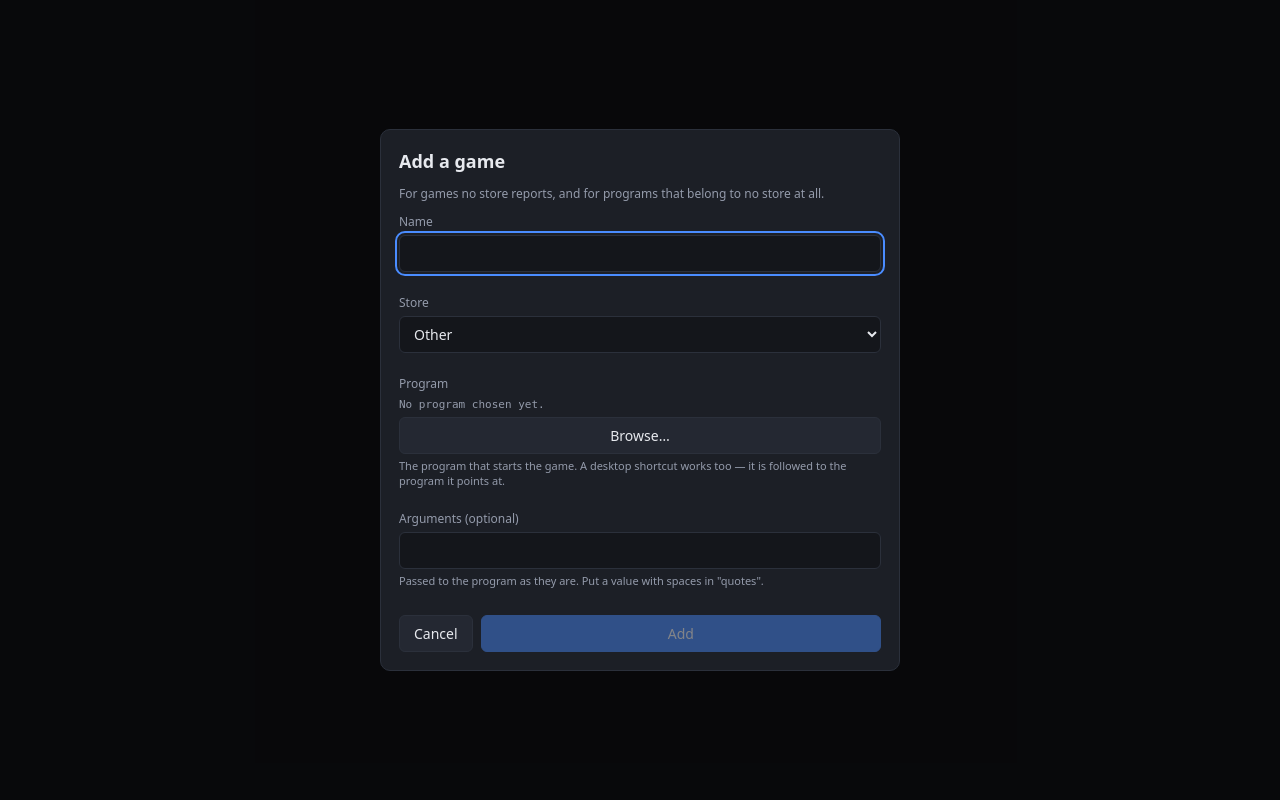
Test: a storeless game › leaves a name the user typed alone
Type "My Modpack" into the field labelled "Name". click: (640,254)
box: [399,235,881,272]
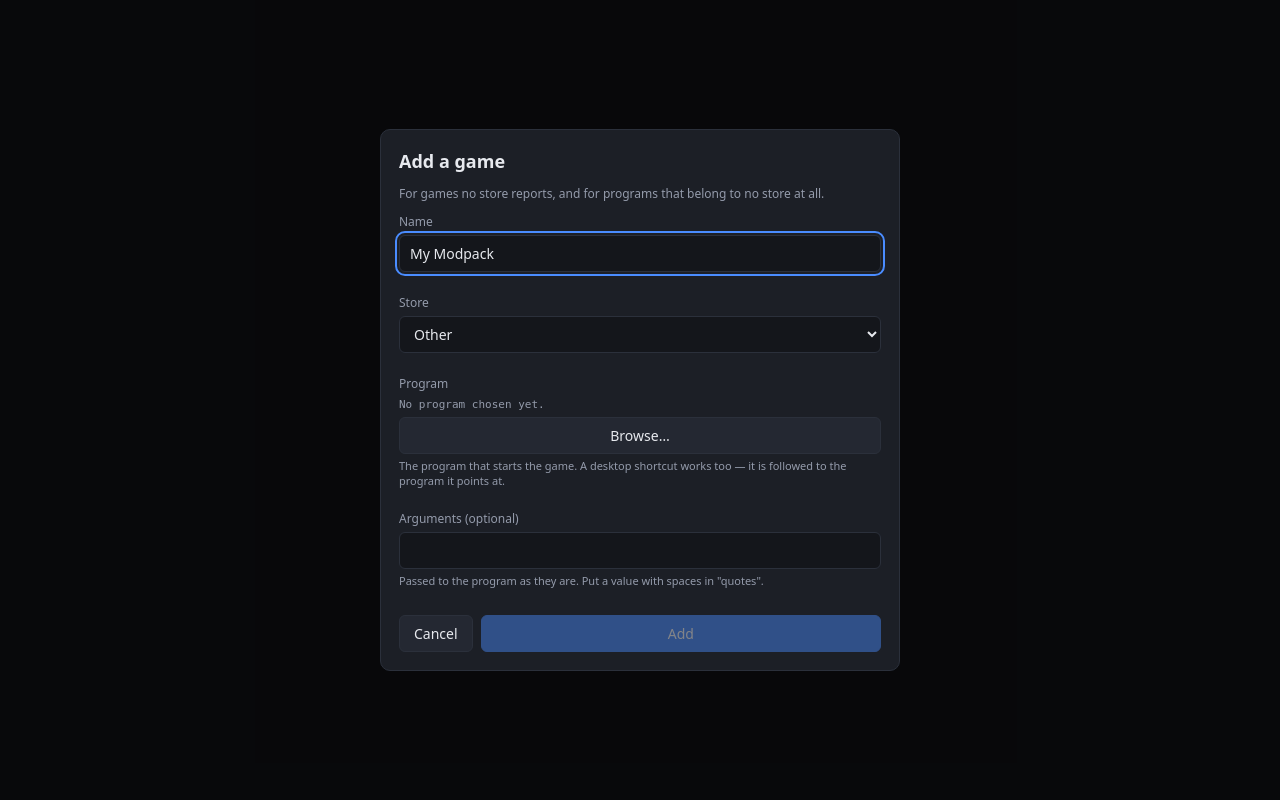
Click the button "Browse…". click: (640,435)
box: [399,417,881,454]
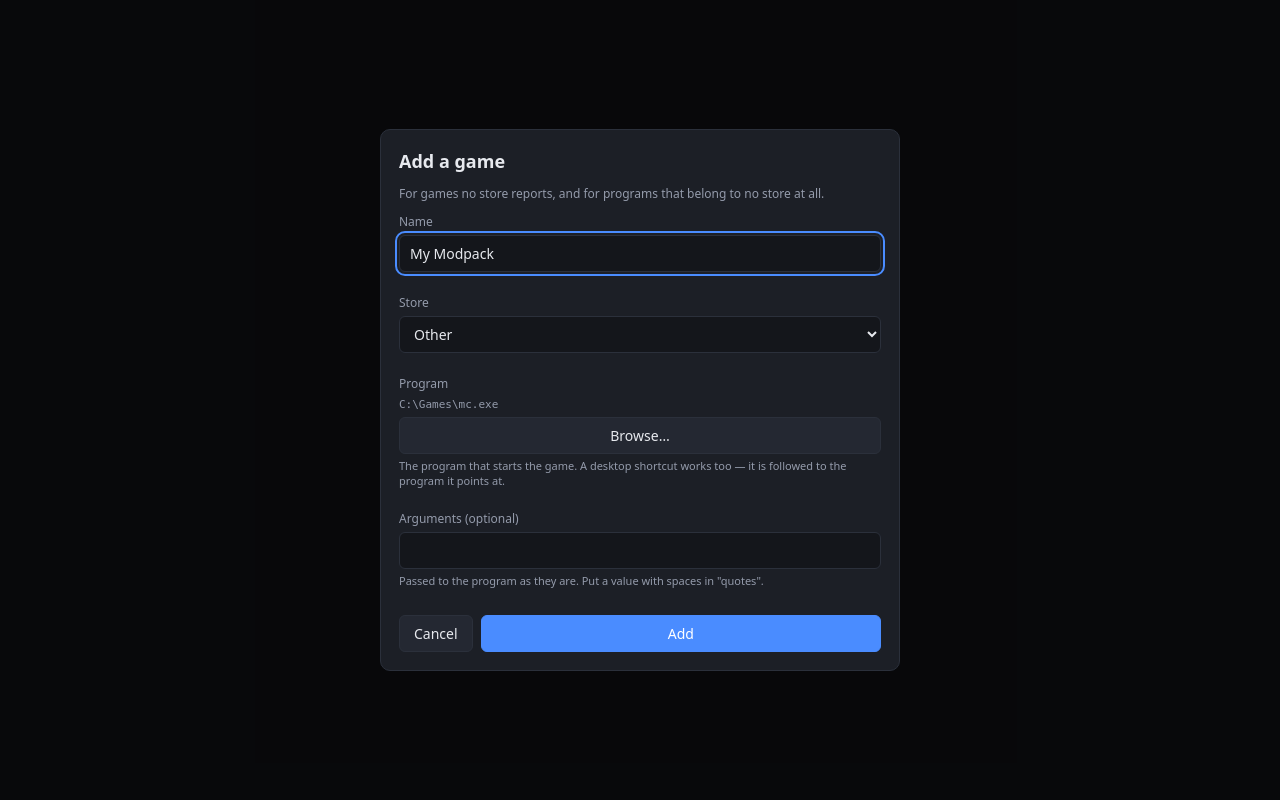
Now the text "C:\\Games\\mc.exe" is shown, box [399,398,498,411]
